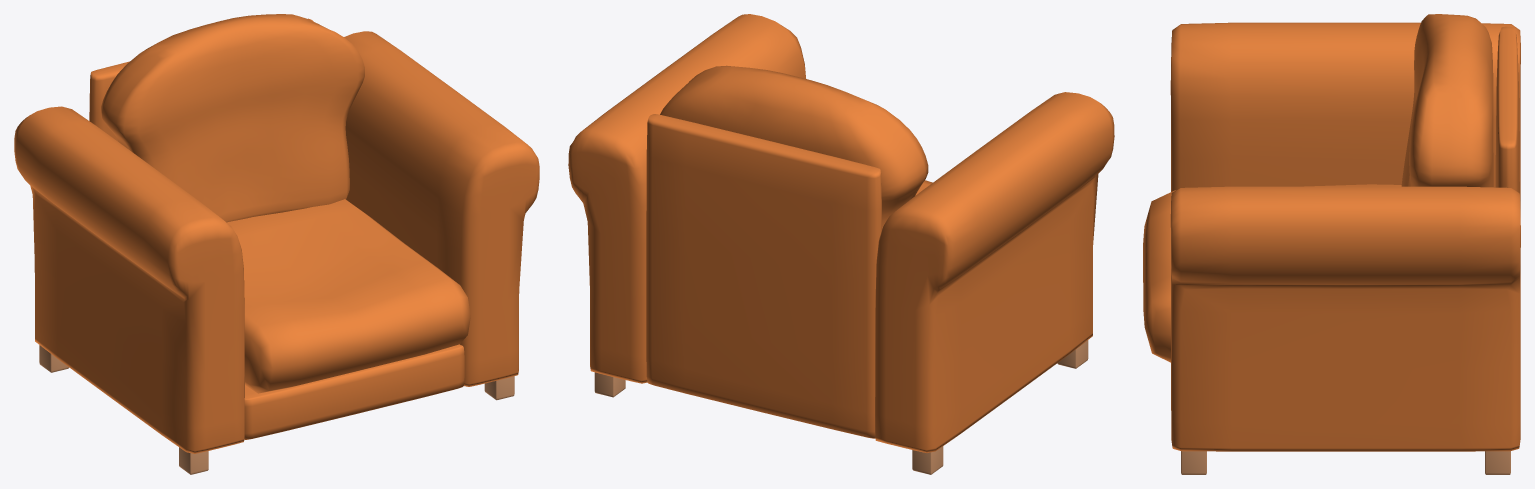
Rendered from nojatuoli.fbx.
The picture shows the model from 3 angles, left to right: view 1: azimuth 30°, elevation 25°; view 2: azimuth 150°, elevation 25°; view 3: azimuth 270°, elevation 25°; orthographic projection. The views are drawn at different scales.
Parts seen in each view (by area): view 1: nojatuoli, tyyny1, tyyny2, jalat; view 2: nojatuoli, tyyny1, jalat; view 3: nojatuoli, tyyny1, tyyny2, jalat.
Part boxes in pixels (x1=…): nojatuoli: x1=14, y1=18, x2=539, y2=453; tyyny1: x1=101, y1=14, x2=364, y2=222; tyyny2: x1=227, y1=199, x2=470, y2=393; jalat: x1=39, y1=345, x2=514, y2=474; nojatuoli: x1=568, y1=14, x2=1114, y2=452; tyyny1: x1=660, y1=65, x2=928, y2=228; jalat: x1=594, y1=340, x2=1088, y2=474; nojatuoli: x1=1170, y1=22, x2=1520, y2=451; tyyny1: x1=1401, y1=14, x2=1493, y2=187; tyyny2: x1=1143, y1=184, x2=1401, y2=362; jalat: x1=1181, y1=451, x2=1510, y2=474.
Size of the model in its own units: 130 by 107 by 105.
